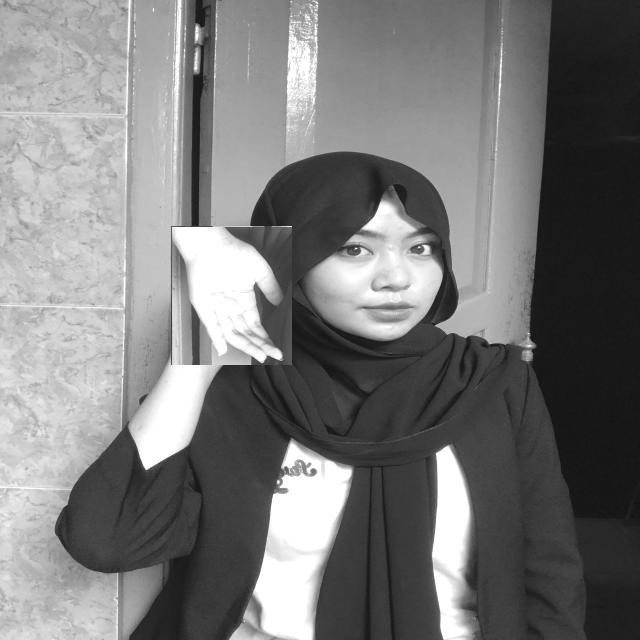mendengar: (171, 226, 292, 365)
